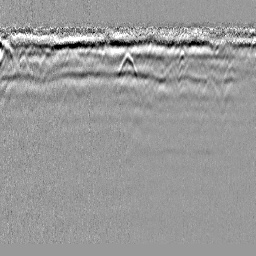cavity: (118, 51, 138, 79)
